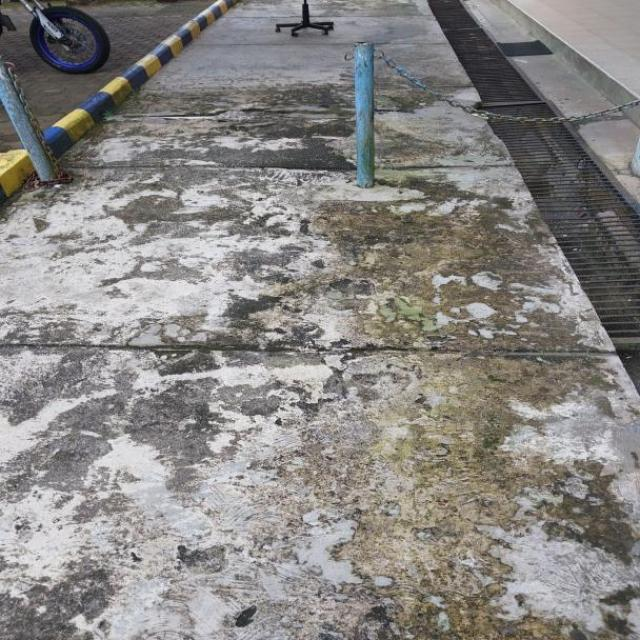barrier ahead at: (339, 37, 395, 194)
